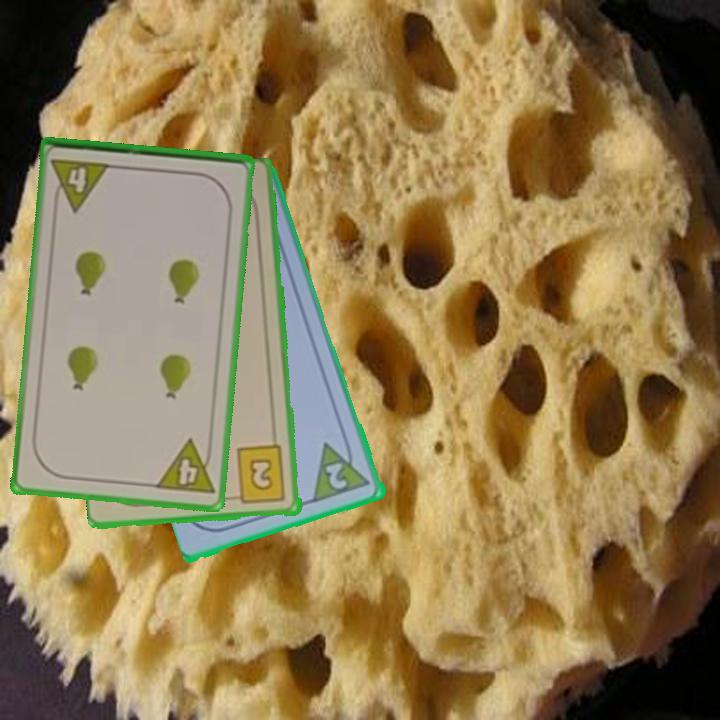2b: (227, 443, 289, 507)
2p: (322, 459, 351, 493)
4p: (152, 436, 217, 498), (48, 155, 113, 214)
